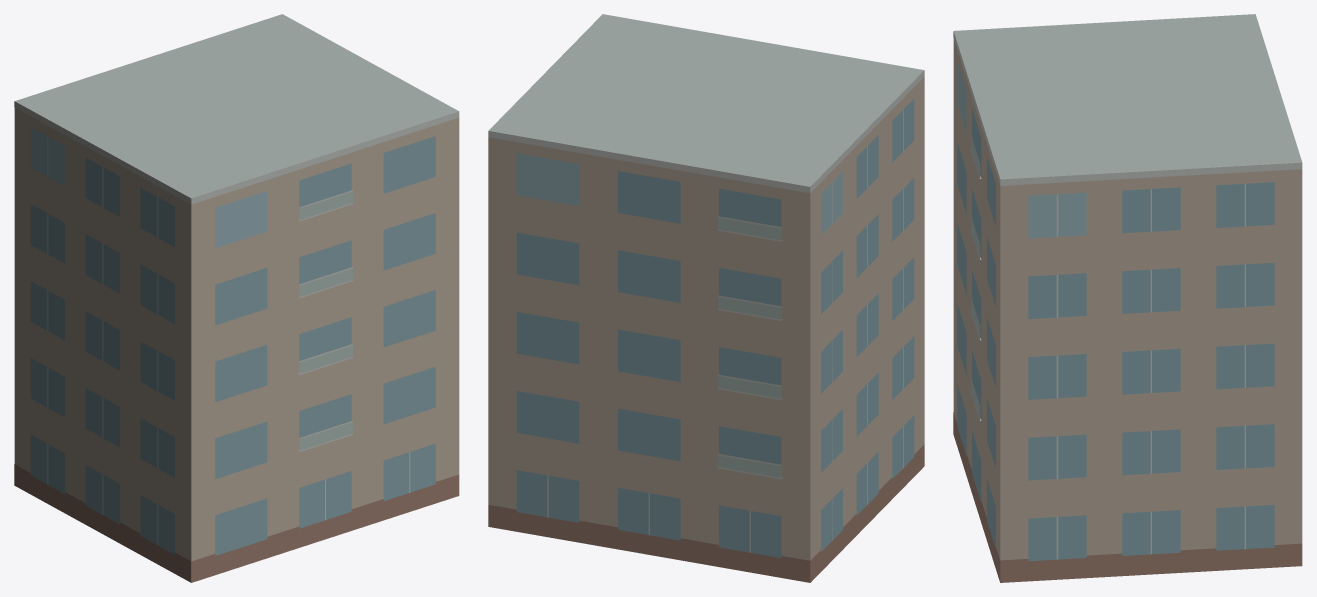
File: survey-upis-32696239.glb
3 renders of one model, left to right at view 1: azimuth 30°, elevation 25°; view 2: azimuth 150°, elevation 25°; view 3: azimuth 270°, elevation 25°, orthographic. The views are drawn at different scales.
Parts seen in each view (by area): view 1: survey-upis-32696239.tmp; view 2: survey-upis-32696239.tmp; view 3: survey-upis-32696239.tmp.
Part boxes in pixels (x1,y1,x2,y2): survey-upis-32696239.tmp: [14, 14, 459, 582]; survey-upis-32696239.tmp: [488, 14, 924, 582]; survey-upis-32696239.tmp: [953, 14, 1302, 582].
Bounding box in the file's own units: 13.43 × 15.25 × 11.97.
